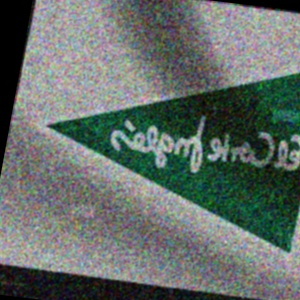corte_ingles: (230, 58, 300, 174)
